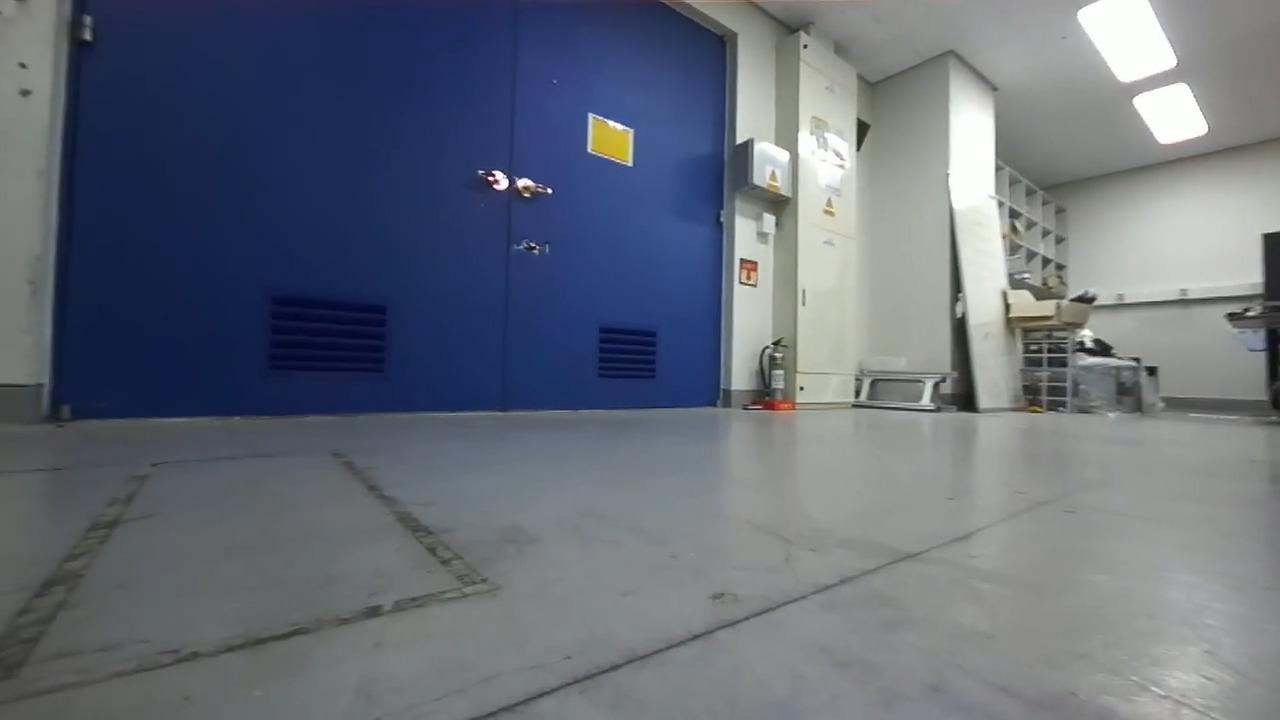crazyflie: (500, 230, 557, 264)
